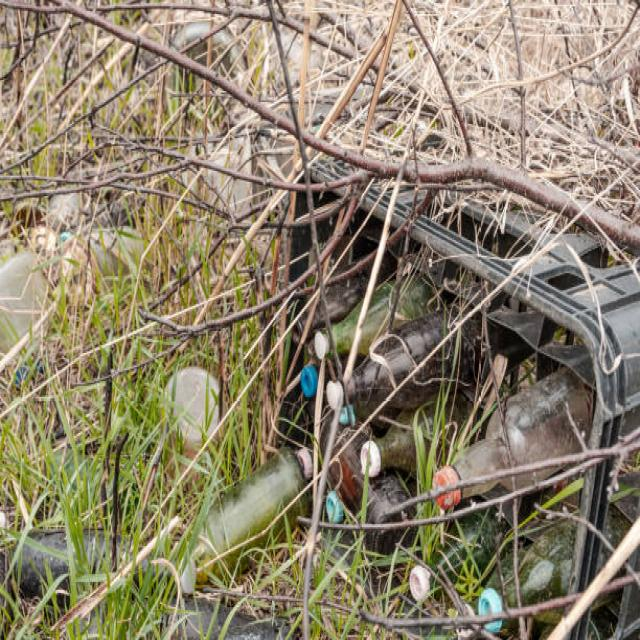plastic: (301, 264, 539, 634)
